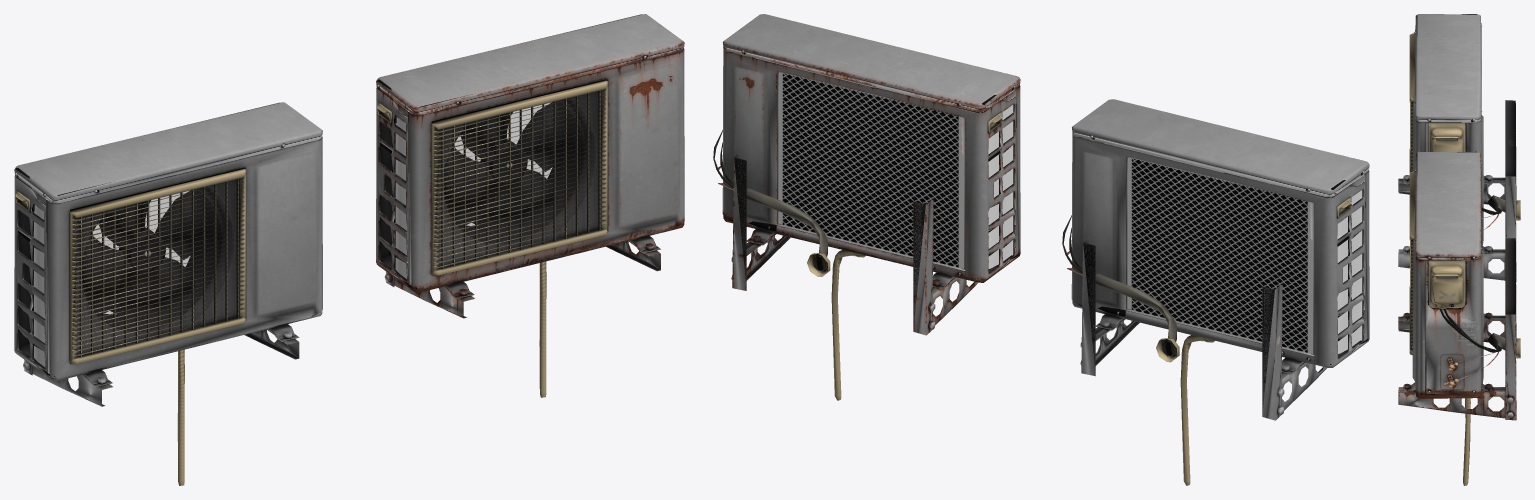
The model's file is exterior_aircon_unit.gltf.
The picture shows the model from 3 angles, left to right: view 1: azimuth 30°, elevation 25°; view 2: azimuth 150°, elevation 25°; view 3: azimuth 270°, elevation 25°; orthographic projection. The views are drawn at different scales.
Parts seen in each view (by area): view 1: exterior_aircon_unit_rusted, exterior_aircon_unit; view 2: exterior_aircon_unit, exterior_aircon_unit_rusted; view 3: exterior_aircon_unit_rusted, exterior_aircon_unit.
Part boxes in pixels (box(x1,y1,x2,y2)): exterior_aircon_unit_rusted: box(376, 14, 684, 397); exterior_aircon_unit: box(14, 102, 322, 485); exterior_aircon_unit: box(1062, 99, 1369, 485); exterior_aircon_unit_rusted: box(713, 14, 1020, 400); exterior_aircon_unit_rusted: box(1398, 151, 1520, 485); exterior_aircon_unit: box(1398, 14, 1520, 282).
Size of the model in its own units: 1.8 by 0.9279 by 0.3742.
4 materials, 4 textured.
